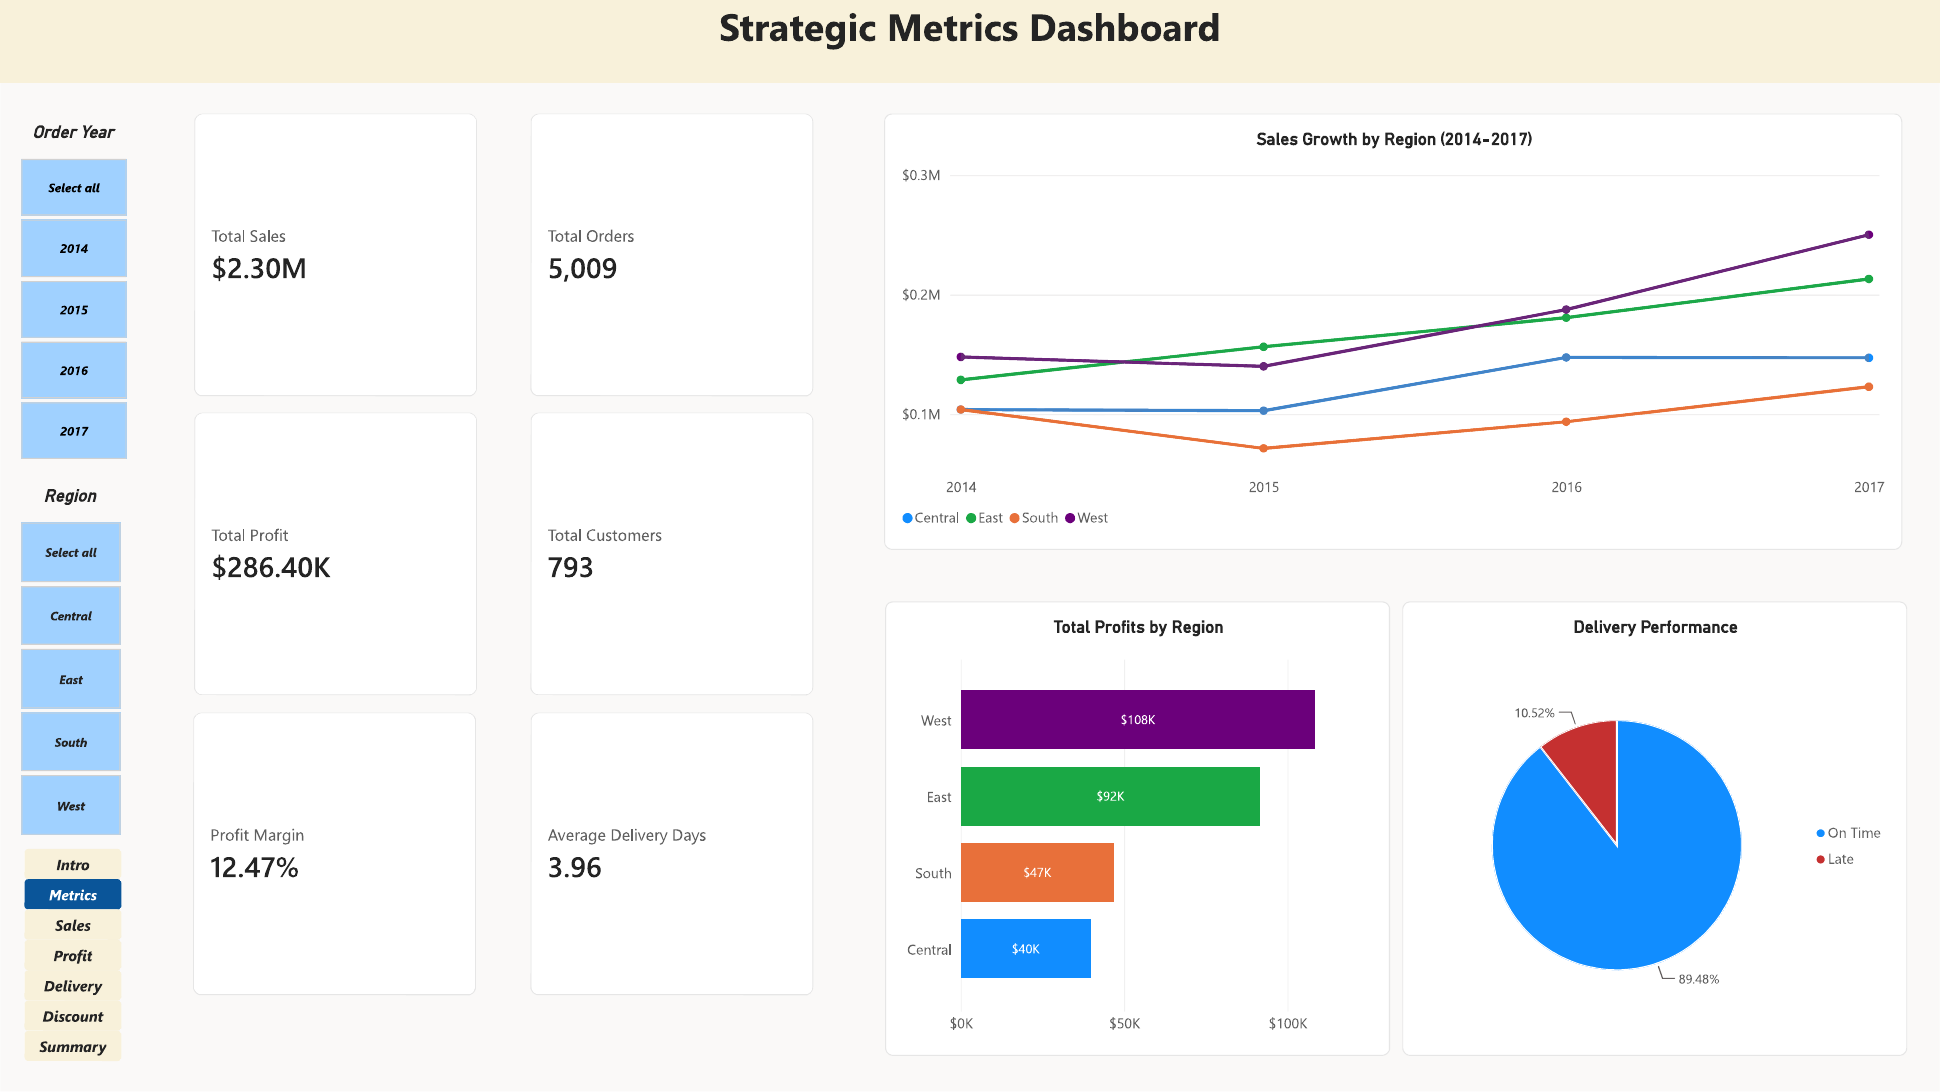

What the dashboard file says about the page in this screenshot:
{"tool":"powerbi","page":{"name":"Metrics","canvas":[1920,1080],"ordinal":1},"visuals":[{"type":"cardVisual","fields":{"Data":["Superstore.Total Sales"]},"box":[191.6,112,280,280],"z":0},{"type":"cardVisual","fields":{"Data":["Superstore.Total Profit"]},"box":[191.6,408,280,280],"z":1000},{"type":"cardVisual","fields":{"Data":["Superstore.Profit Margin"]},"box":[191.5,705,280,280],"z":2000},{"type":"cardVisual","fields":{"Data":["Superstore.Total Orders Display"]},"box":[525.4,112,280,280],"z":3000},{"type":"cardVisual","fields":{"Data":["Superstore.Total Customers"]},"box":[525.4,408.2,280,280],"z":4000},{"type":"cardVisual","fields":{"Data":["Superstore.Average Delivery Days"]},"box":[525.2,705,280,280],"z":5000},{"type":"textbox","box":[0,0,1920.4,82.3],"z":6000},{"type":"slicer","title":"Order Year","fields":{"Values":["Superstore.OrderYear"]},"box":[0,120,144,336],"z":7000},{"type":"slicer","title":"Region","fields":{"Values":["Superstore.Region"]},"box":[0,480,137.9,347.9],"z":8000},{"type":"lineChart","title":"Sales Growth by Region (2014-2017)","fields":{"Category":["Superstore.OrderYear"],"Series":["Superstore.Region"],"Y":["Superstore.Total Sales"]},"box":[875,112,1008,432],"z":9000},{"type":"barChart","title":"Total Profits by Region","fields":{"Category":["Superstore.Region"],"Series":["Superstore.Region"],"Y":["Superstore.Total Profit"]},"box":[875.5,595,500,450],"z":10000},{"type":"pieChart","title":"Delivery Performance","fields":{"Category":["Superstore.LateShipFlag"],"Y":["Superstore.Order Lines"]},"box":[1387.5,595,500,450],"z":11000},{"type":"pageNavigator","box":[24,840,96,216],"z":11001}]}

Visuals, with their boxes in screenshot pixels (x1, y1, x2, y2), scaled from the page's 1920x1080 canvas onto the 1940x1092 screenshot:
cardVisual - Superstore.Total Sales: crop(194, 113, 477, 396)
cardVisual - Superstore.Total Profit: crop(194, 413, 477, 696)
cardVisual - Superstore.Profit Margin: crop(193, 713, 476, 996)
cardVisual - Superstore.Total Orders Display: crop(531, 113, 814, 396)
cardVisual - Superstore.Total Customers: crop(531, 413, 814, 696)
cardVisual - Superstore.Average Delivery Days: crop(531, 713, 814, 996)
textbox: crop(0, 0, 1939, 83)
"Order Year" slicer: crop(0, 121, 146, 461)
"Region" slicer: crop(0, 485, 139, 837)
"Sales Growth by Region (2014-2017)" lineChart: crop(884, 113, 1903, 550)
"Total Profits by Region" barChart: crop(885, 602, 1390, 1057)
"Delivery Performance" pieChart: crop(1402, 602, 1907, 1057)
pageNavigator: crop(24, 849, 121, 1068)
